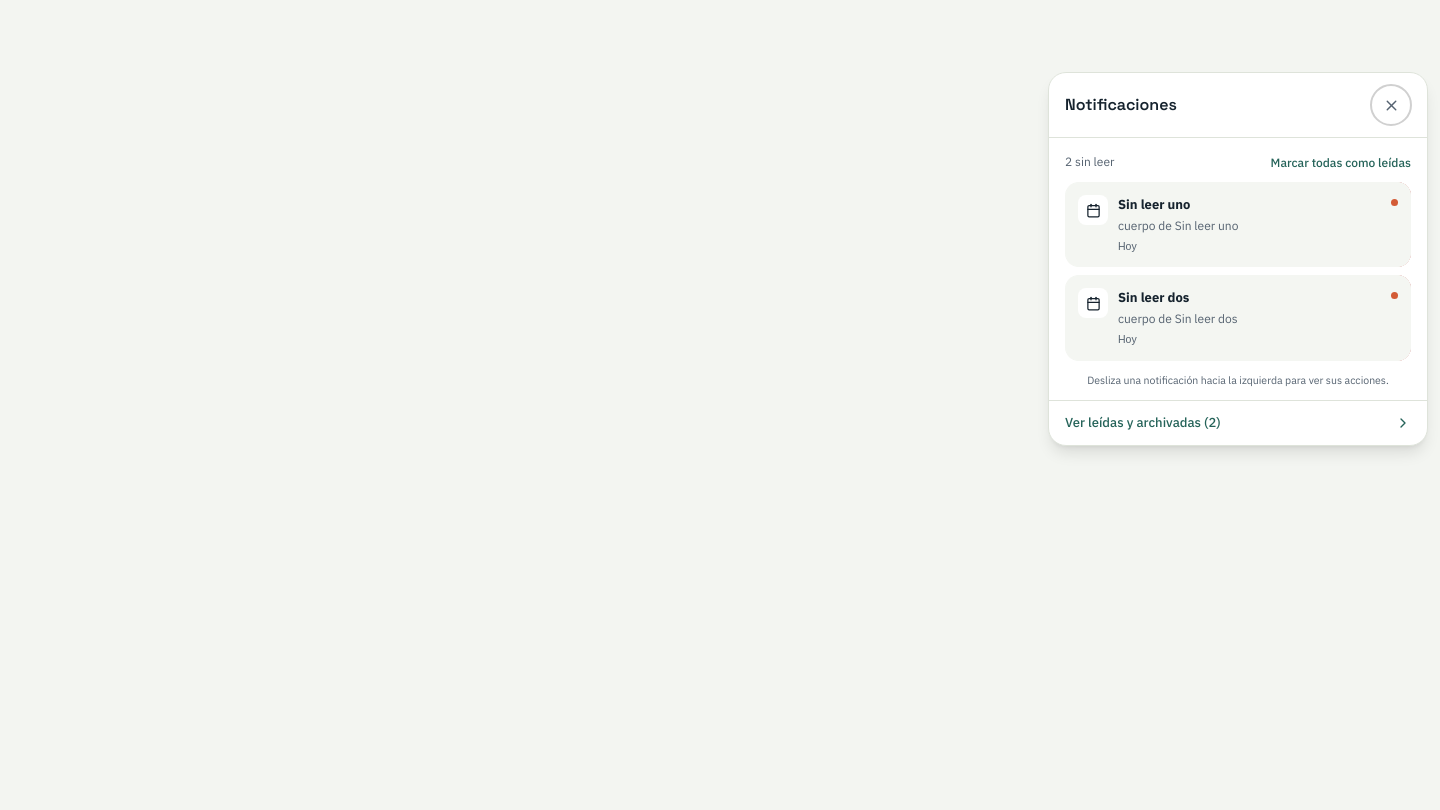
Test: NotificationsPanel (prueba de humo) › otra vista: leídas y archivadas por separado
Click the button "Ver leídas y archivadas (2)".
click(1137, 423)  # box [1049,400,1427,445]
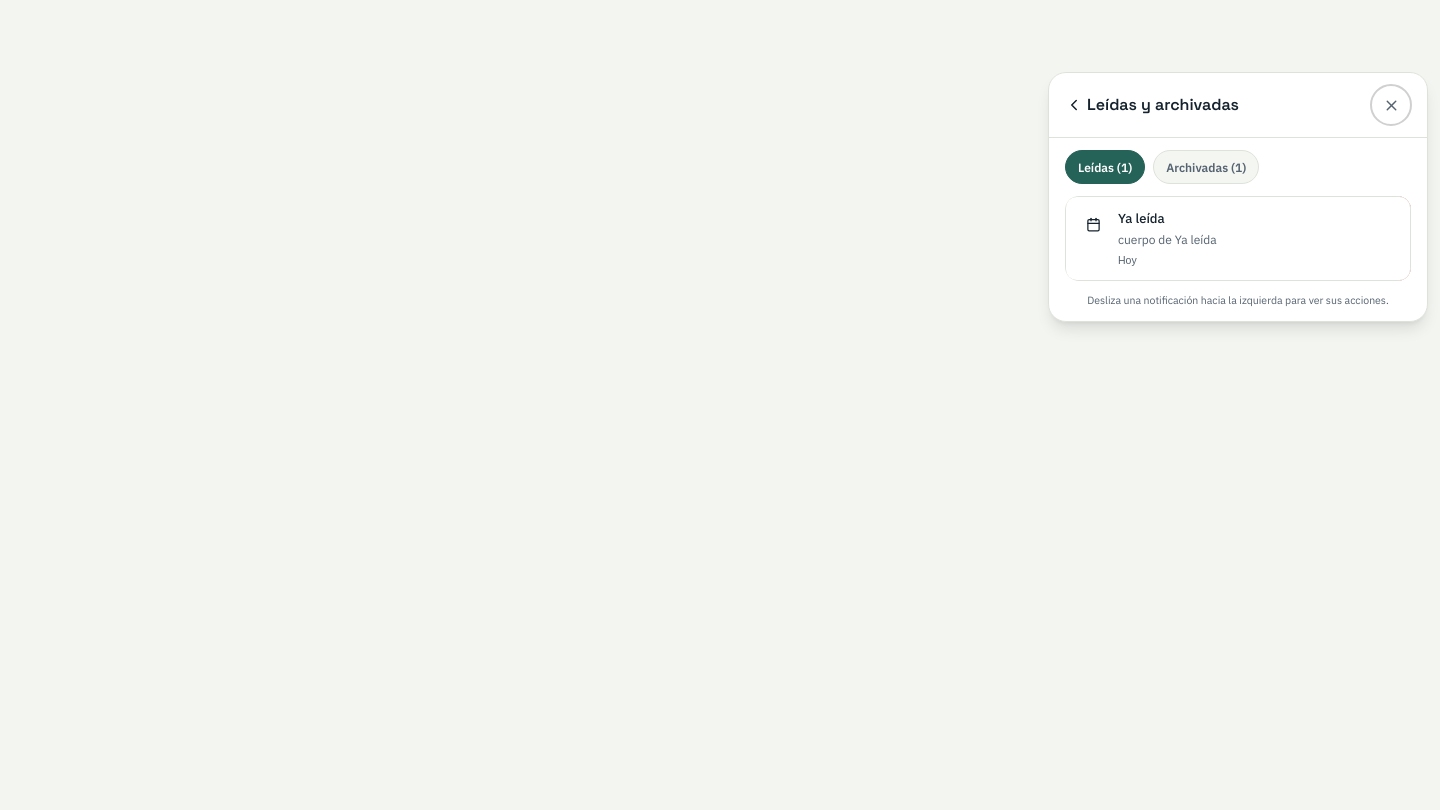
Expected: the text "Ya leída" is shown, [1118,209,1165,228]
Click the button "Archivadas (1)".
click(1206, 167)  # box [1153,150,1259,184]
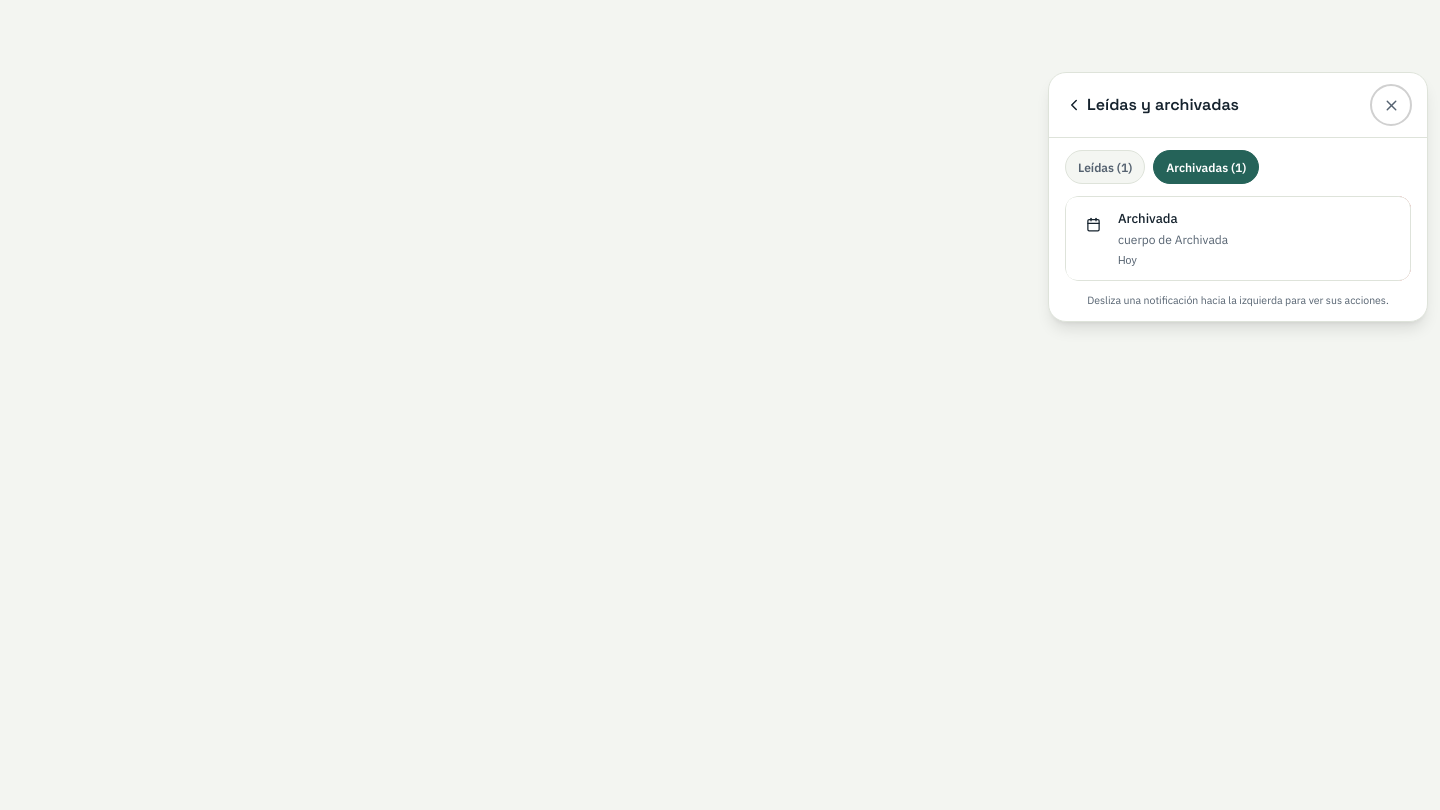
Expected: the text "Archivada" is shown, [1118,209,1178,228]
Expected: the text "Ya leída" is gone
Click the button with aria-label "Volver a las notificaciones".
click(1152, 105)  # box [1065,93,1239,117]
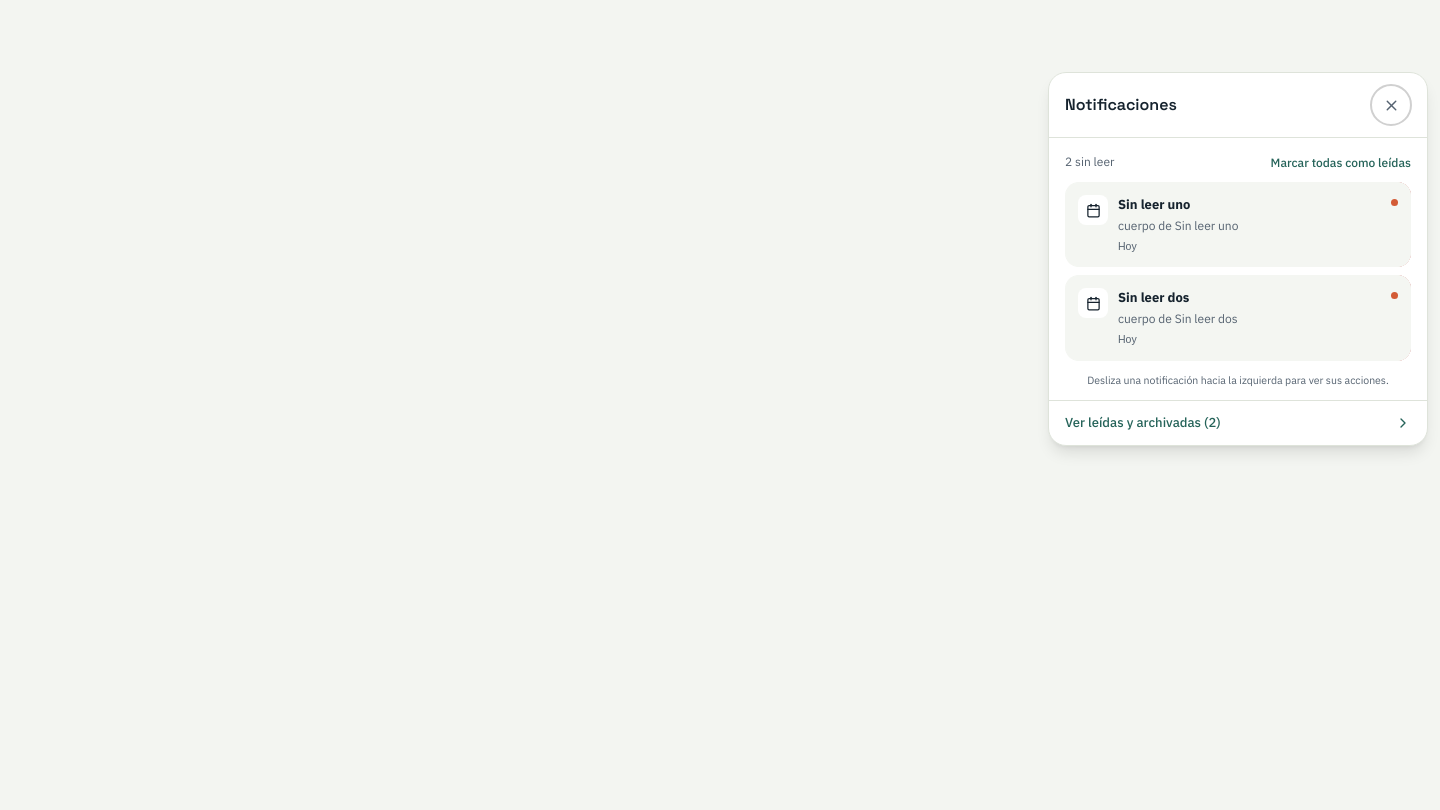
Expected: the text "Sin leer uno" is shown, [1118,195,1190,214]
